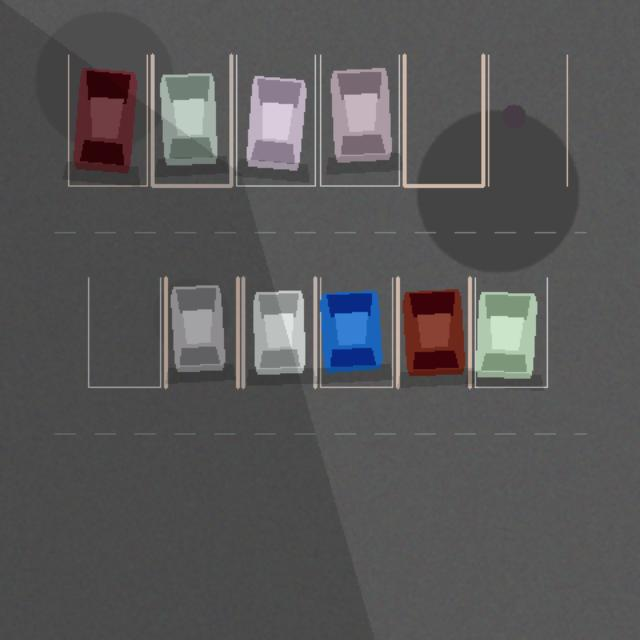space-empty: (404, 55, 483, 185), (488, 55, 567, 185), (88, 277, 160, 387)
space-occupied: (68, 55, 147, 185), (152, 55, 231, 185), (236, 55, 315, 185), (320, 55, 399, 185), (165, 277, 237, 387), (243, 277, 315, 387), (320, 277, 392, 387), (397, 277, 469, 387), (475, 277, 547, 387)
